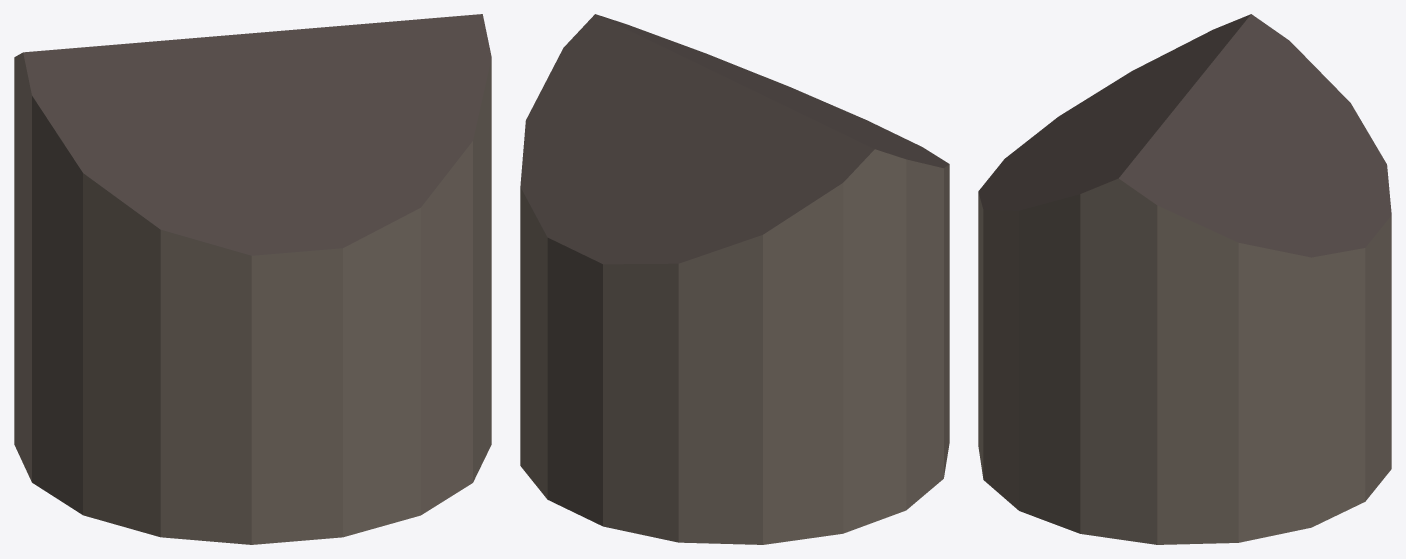
The picture shows the model from 3 angles, left to right: view 1: azimuth 30°, elevation 25°; view 2: azimuth 150°, elevation 25°; view 3: azimuth 270°, elevation 25°; orthographic projection. The views are drawn at different scales.
Parts seen in each view (by area): view 1: HP-w414551893; view 2: HP-w414551893; view 3: HP-w414551893.
Boxes of the visible parts, x1,y1,x2,y2 form: HP-w414551893: [14, 14, 491, 544]; HP-w414551893: [520, 14, 949, 544]; HP-w414551893: [978, 14, 1391, 544].
Size of the model in its own units: 8.9 by 8.53 by 8.86.
